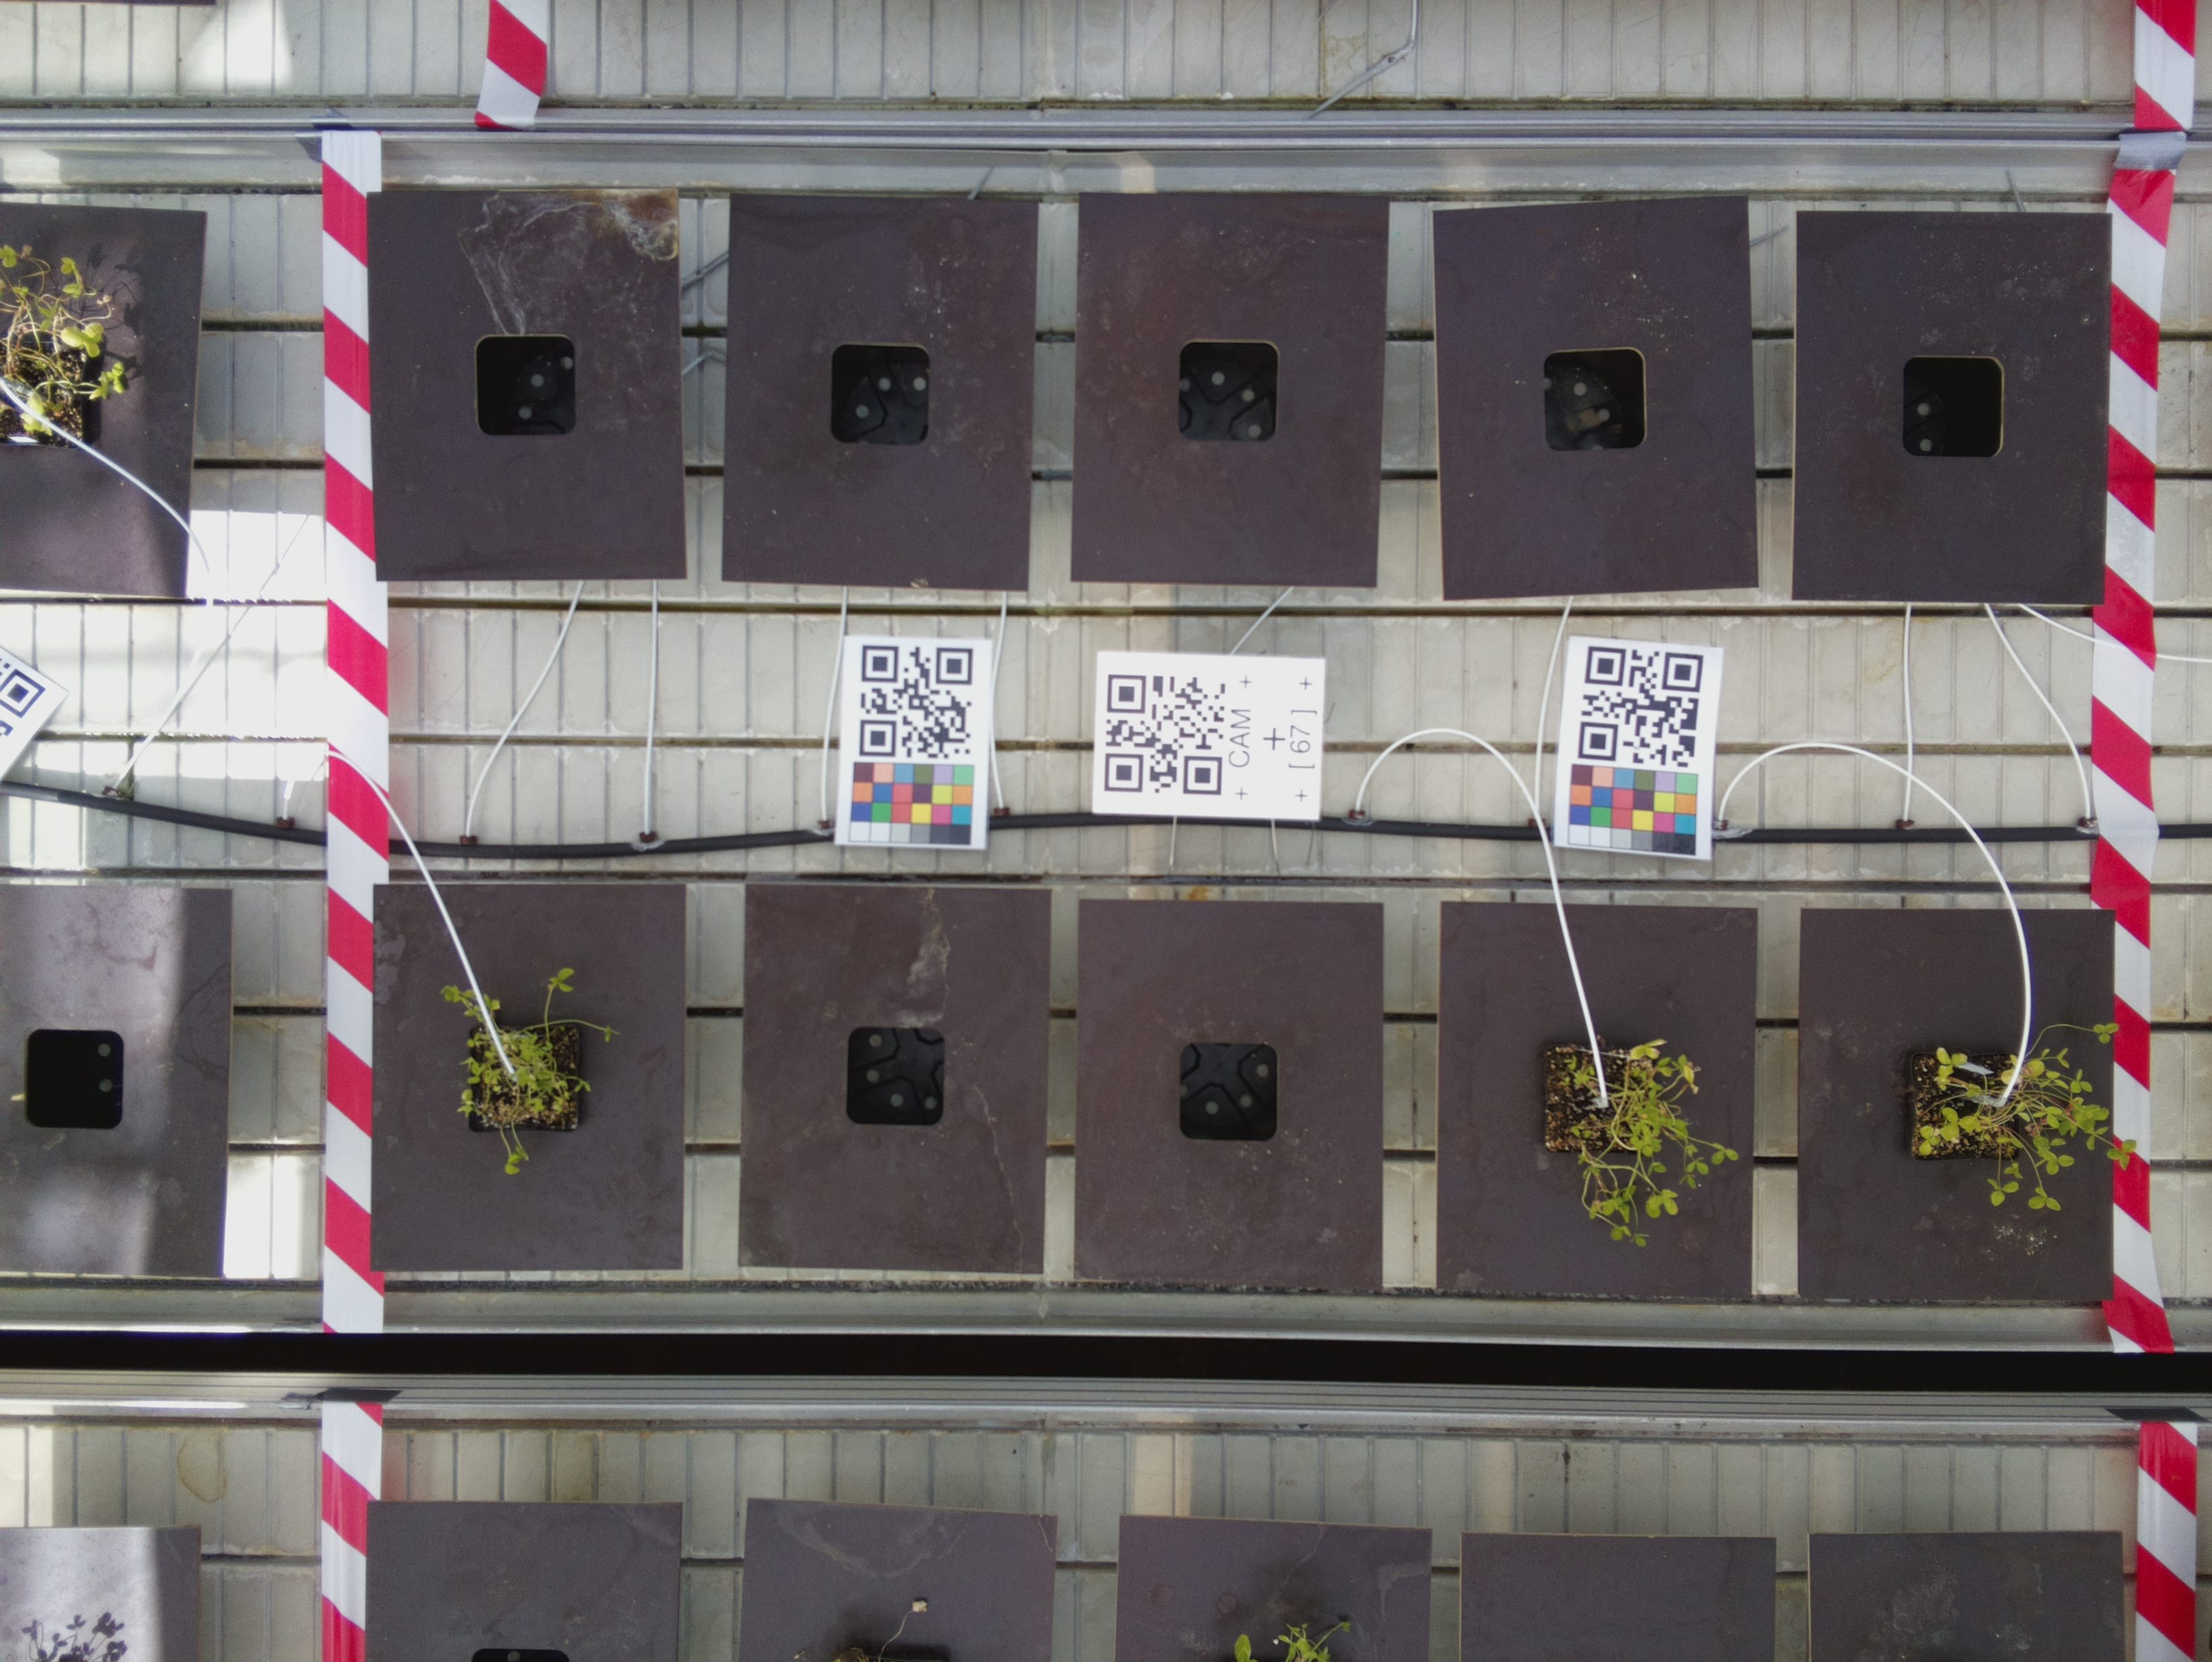POT: (1440, 901, 1763, 1306), (368, 190, 691, 578), (1800, 908, 2114, 1302), (1435, 211, 1758, 594), (1798, 213, 2106, 608), (742, 883, 1049, 1271), (372, 885, 681, 1267), (732, 194, 1034, 585), (1081, 196, 1381, 588), (1086, 897, 1391, 1283)
QRCODE: (1093, 651, 1325, 824)
QRCOLOR: (1556, 639, 1725, 855), (836, 634, 993, 848)
